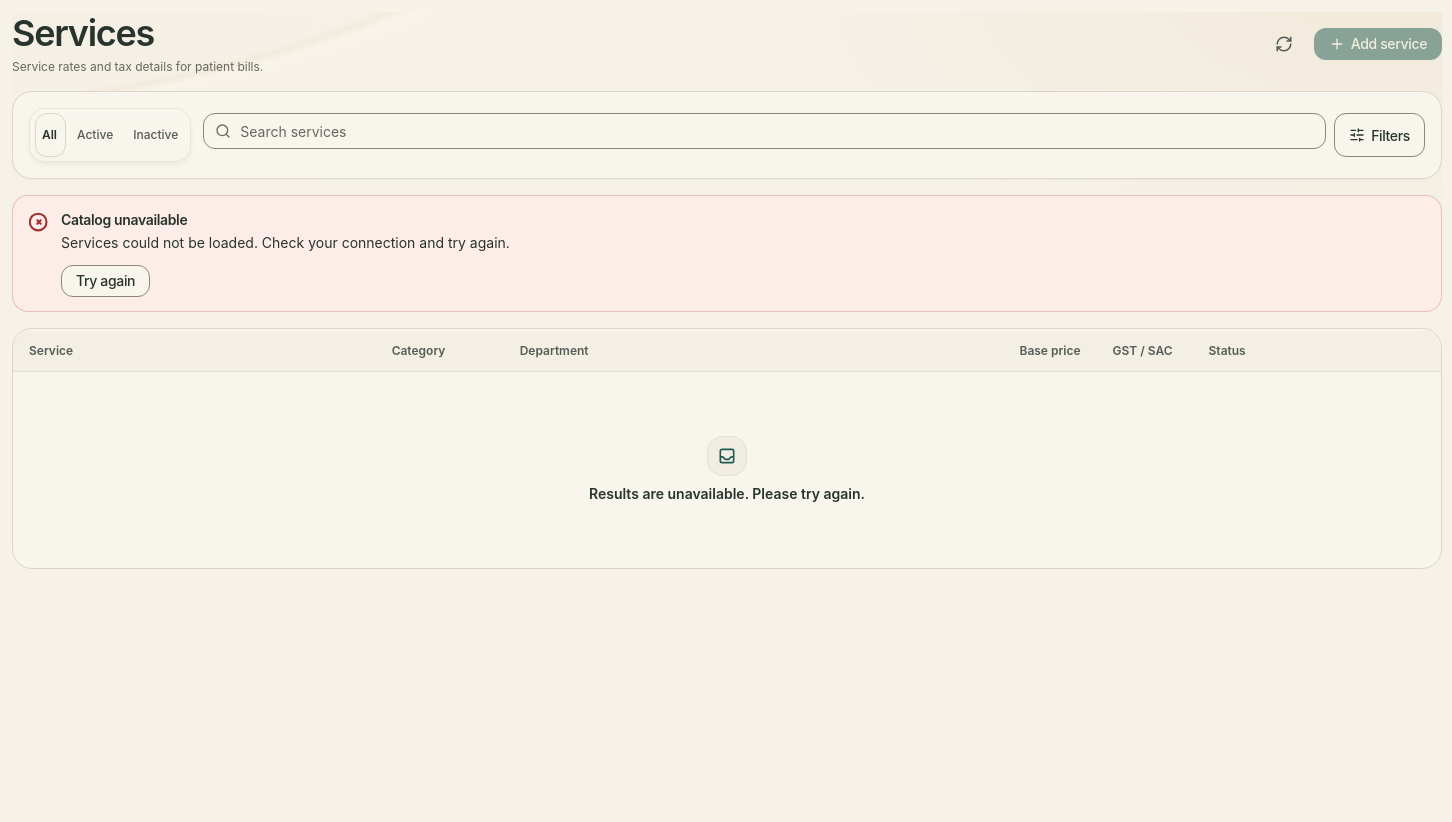
Test: Catalog query continuity › keeps a failed initial load recoverable after its toast disappears
Expected: the text "Services could not be loaded. Check your connection and try again." is shown, [61,234,510,251]
Click the button "Try again" at [106, 281], box [61,265,150,297]
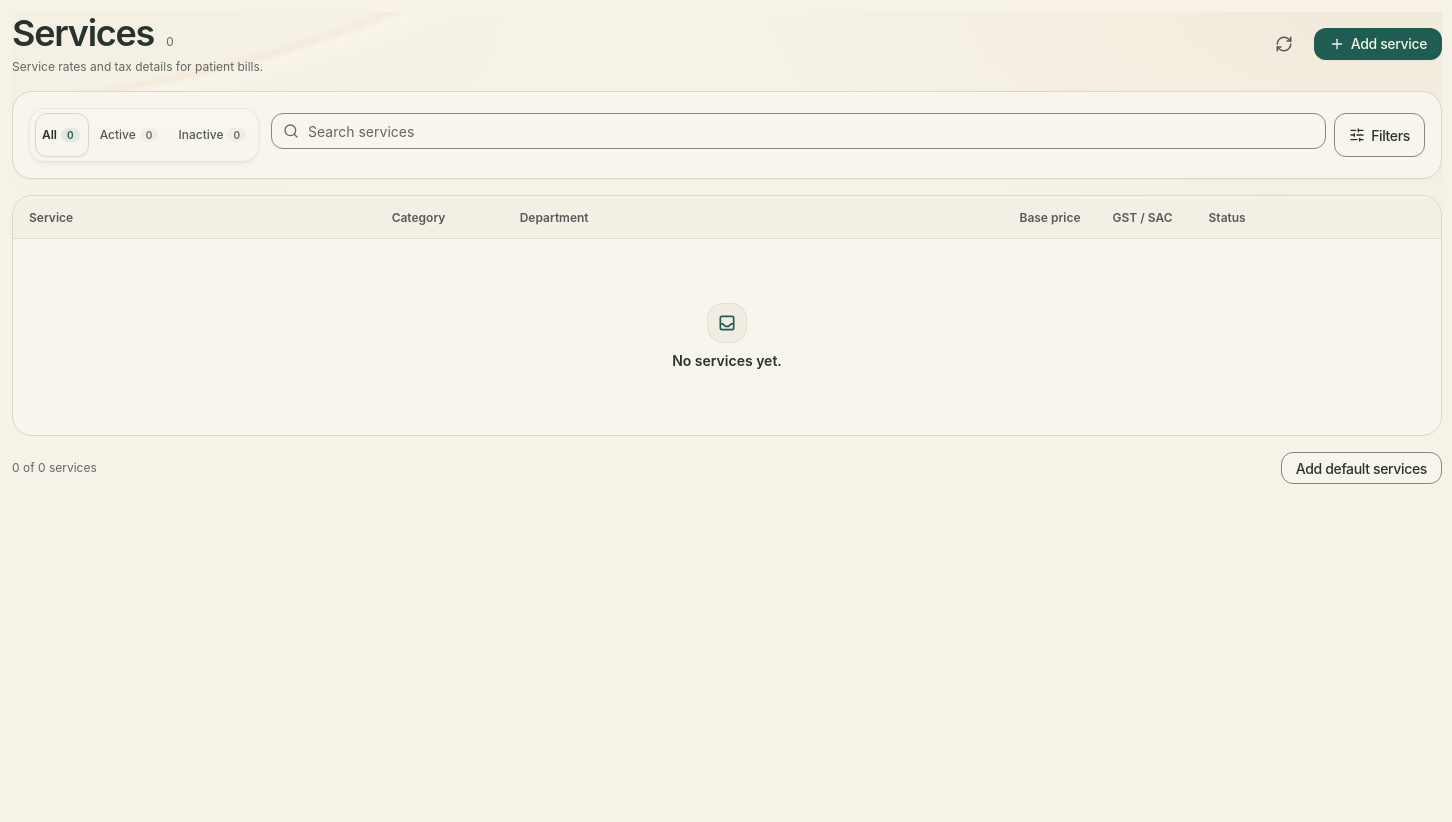
Expected: the text "Services could not be loaded. Check your connection and try again." is gone
